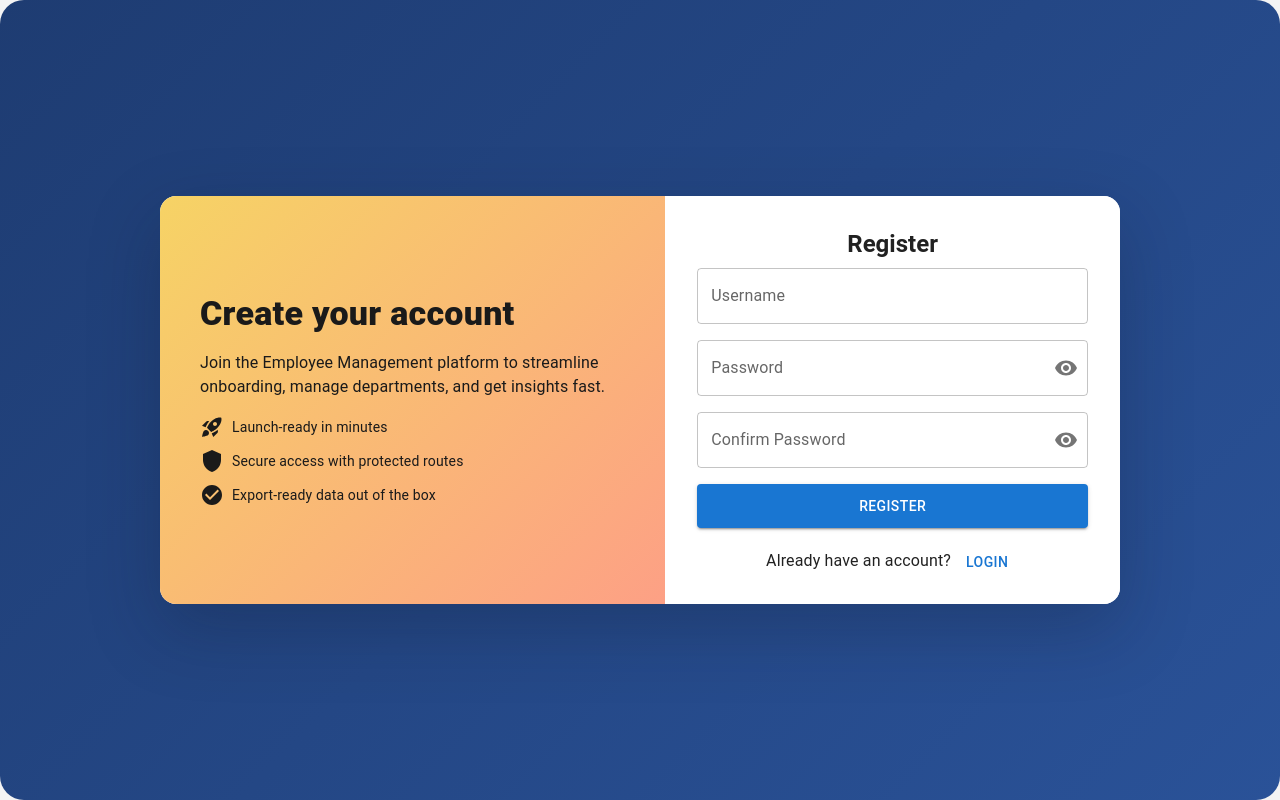
Scenario: <Register /> › shows client-side error if passwords do not match
The image size is (1280, 800).
fill username
Step 1. Type "u1" into the field labelled "Username" → (893, 296), box [697, 268, 1088, 324]
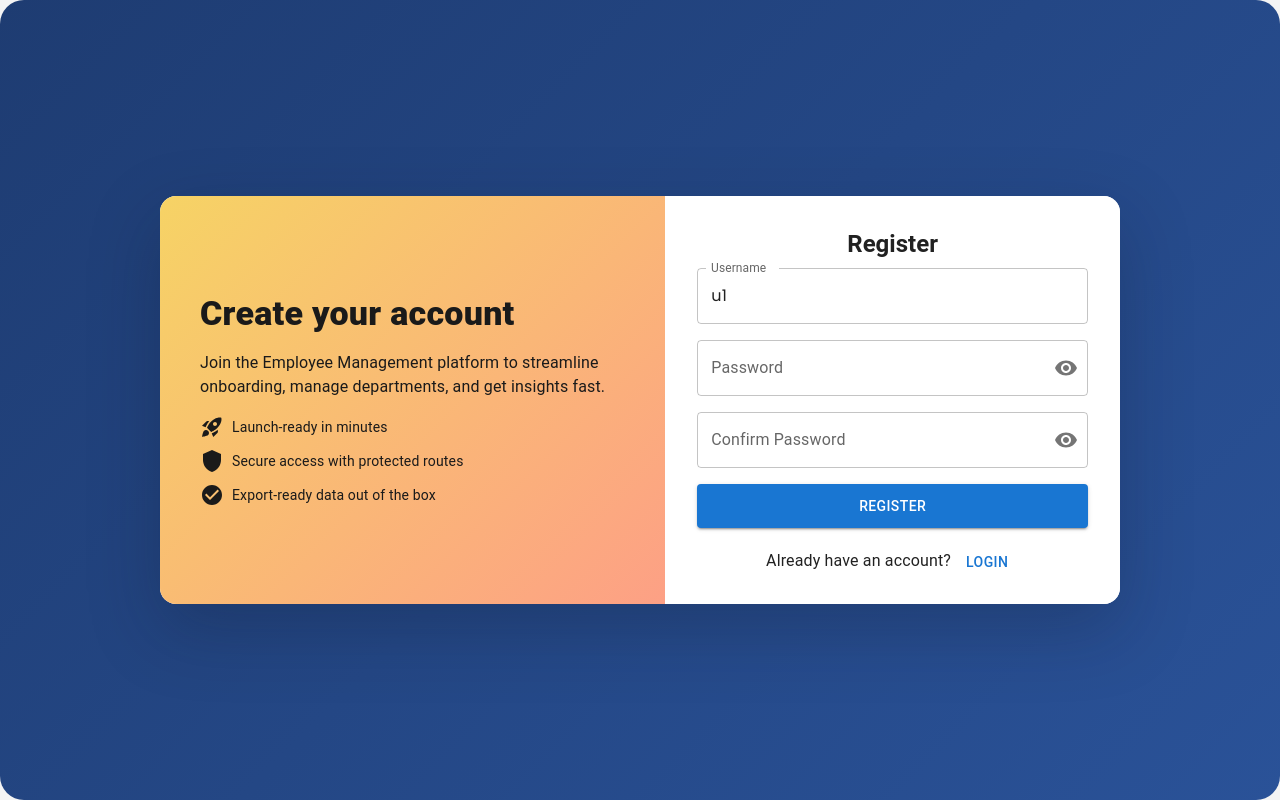
Step 2. Type "pass1" into the password field labelled "Password" → (868, 368), box [697, 340, 1038, 396]
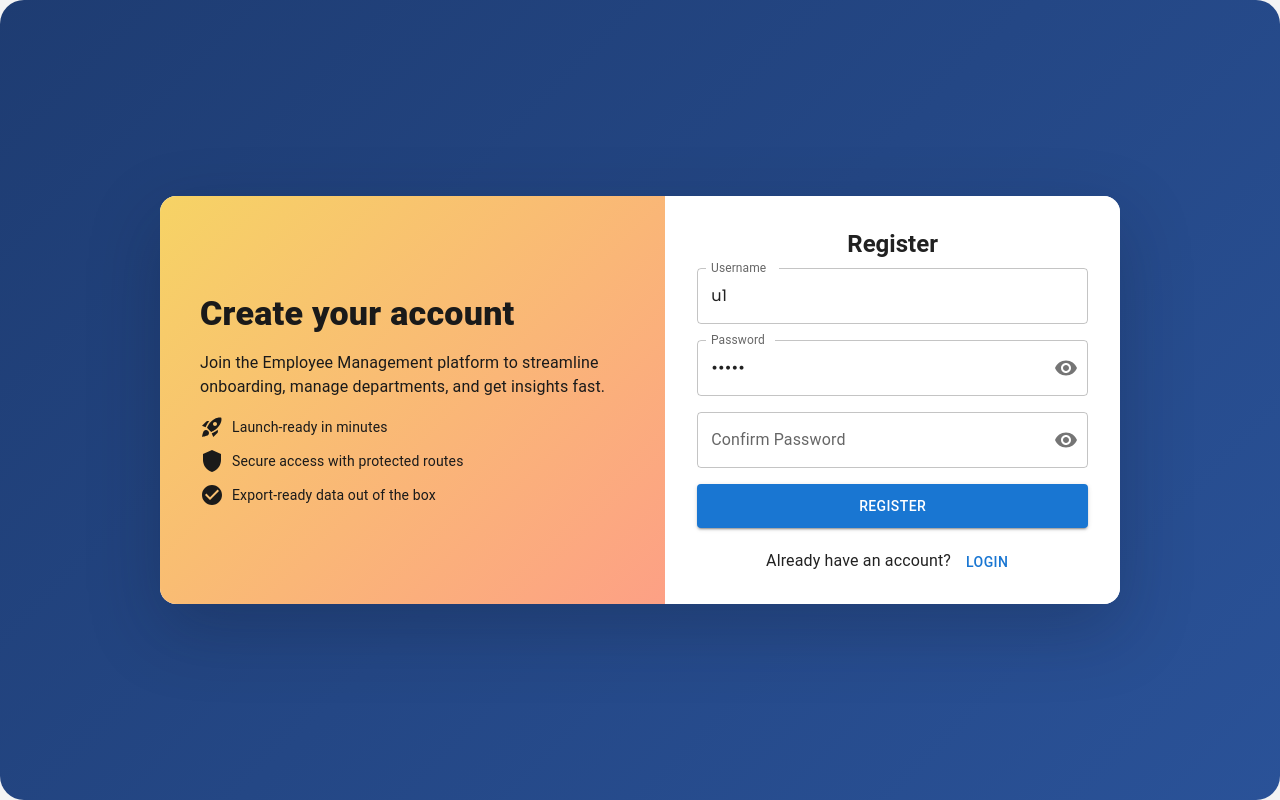
Step 3. Type "pass2" into the password field labelled "Confirm Password" → (868, 440), box [697, 412, 1038, 468]
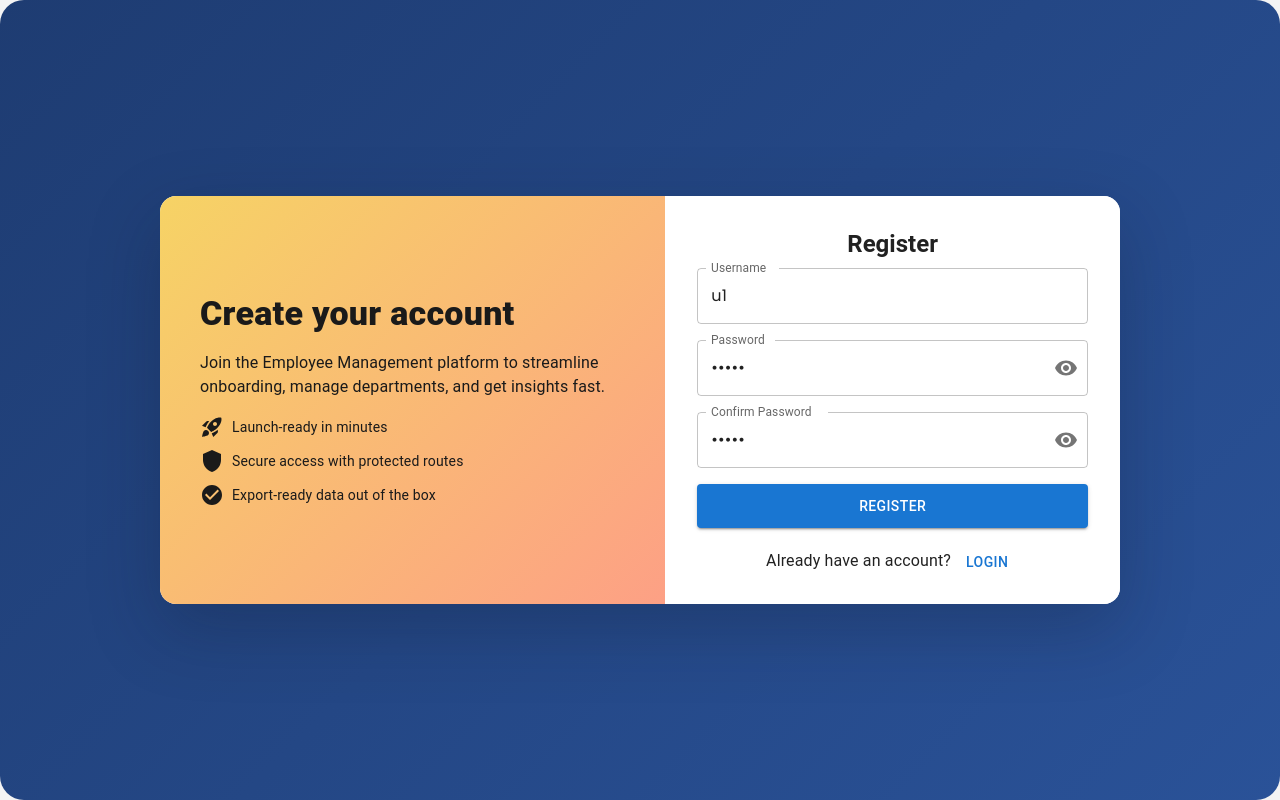
Step 4. Click the button "Register" → click(893, 506), box [697, 484, 1088, 528]
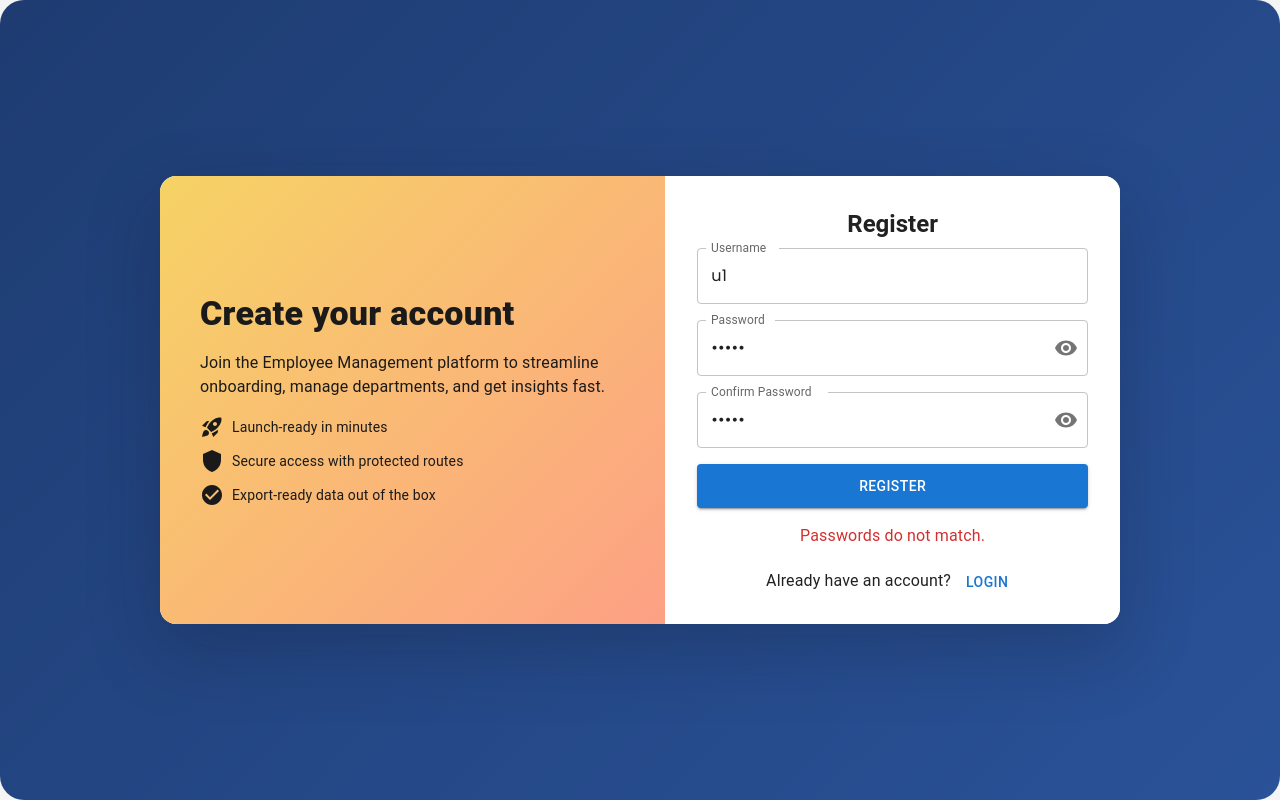
Now the text "Passwords do not match." is shown, box [800, 526, 985, 545]
